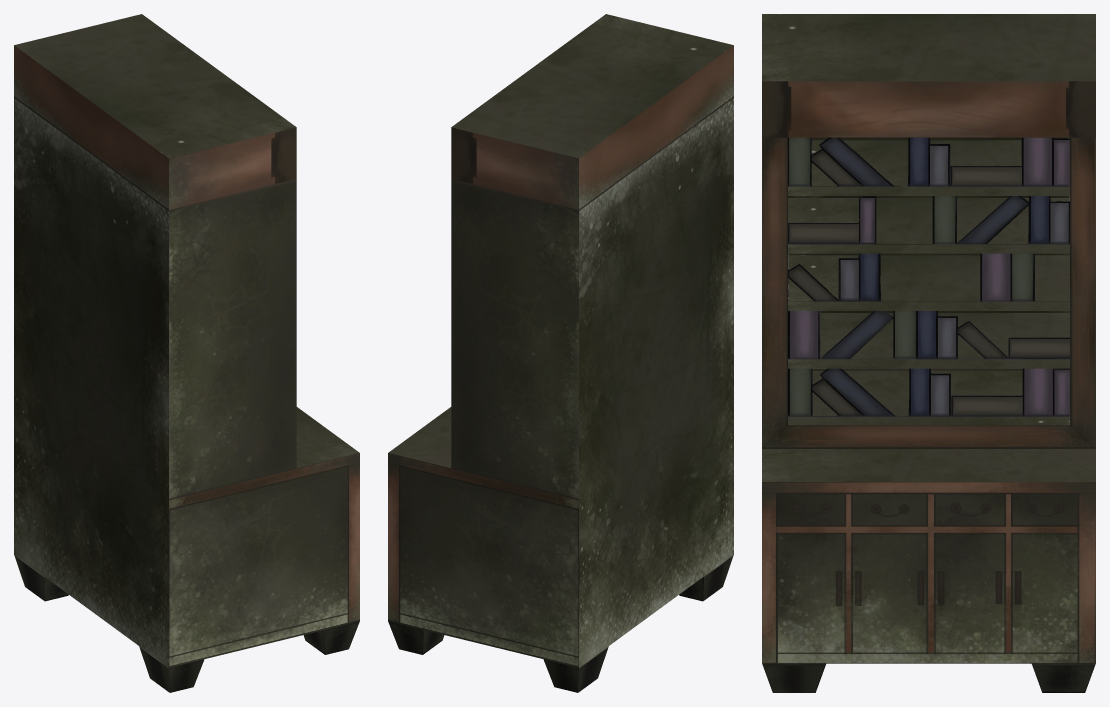
The model's file is Bookshelf01.fbx.
The picture shows the model from 3 angles, left to right: view 1: azimuth 30°, elevation 25°; view 2: azimuth 150°, elevation 25°; view 3: azimuth 270°, elevation 25°; orthographic projection. The views are drawn at different scales.
Visible parts, largest first — view 1: Bookshelf01; view 2: Bookshelf01; view 3: Bookshelf01.
Boxes of the visible parts, x1,y1,x2,y2 form: Bookshelf01: (14, 14, 359, 692); Bookshelf01: (388, 14, 733, 692); Bookshelf01: (762, 14, 1095, 692).
Bounding box in the file's own units: 0.7124 × 1.92 × 1.
Materials: 1 (1 with a texture image).
